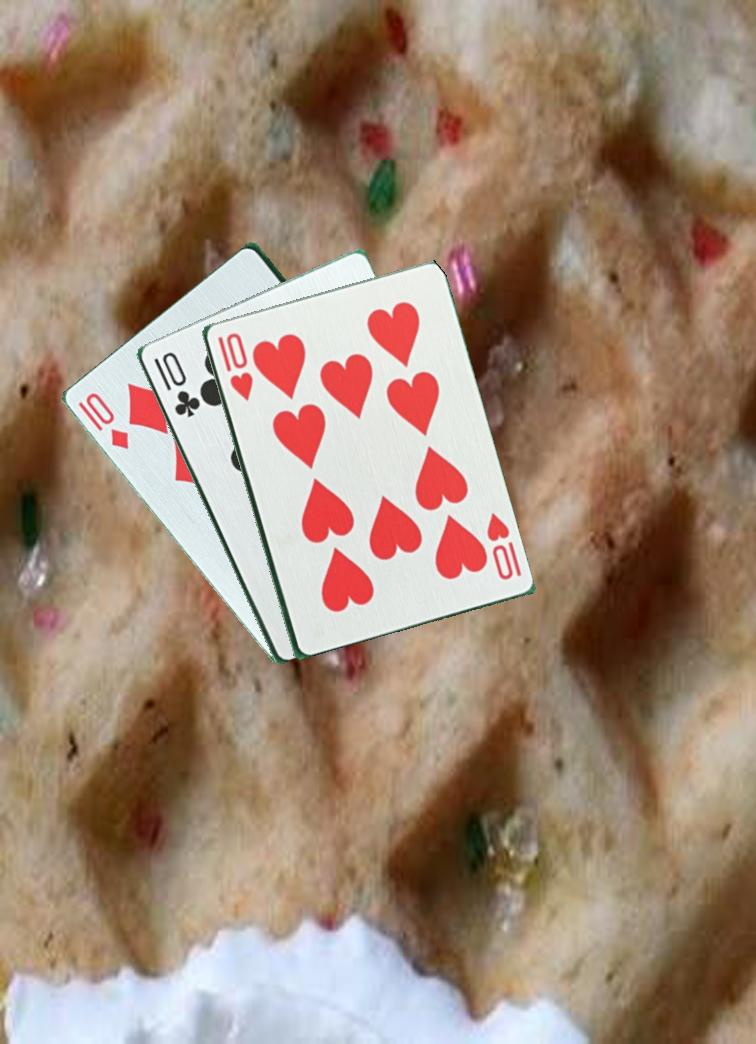tc: (149, 341, 204, 423)
td: (81, 388, 132, 453)
th: (213, 328, 255, 404), (482, 508, 524, 583)
